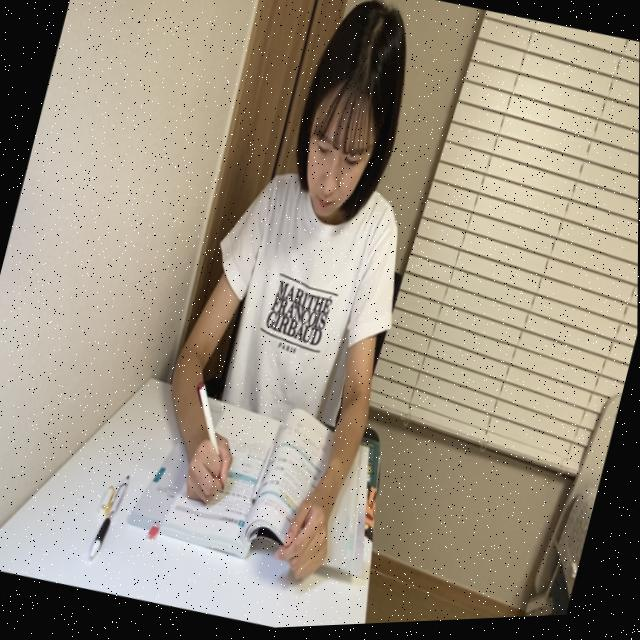studying-person: (108, 0, 520, 625)
